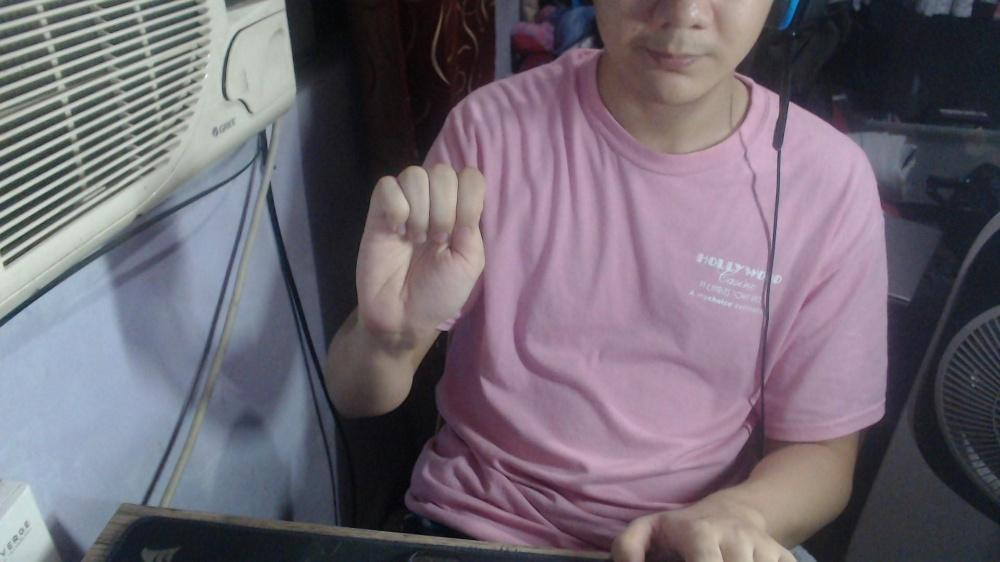m: (353, 158, 488, 333)
